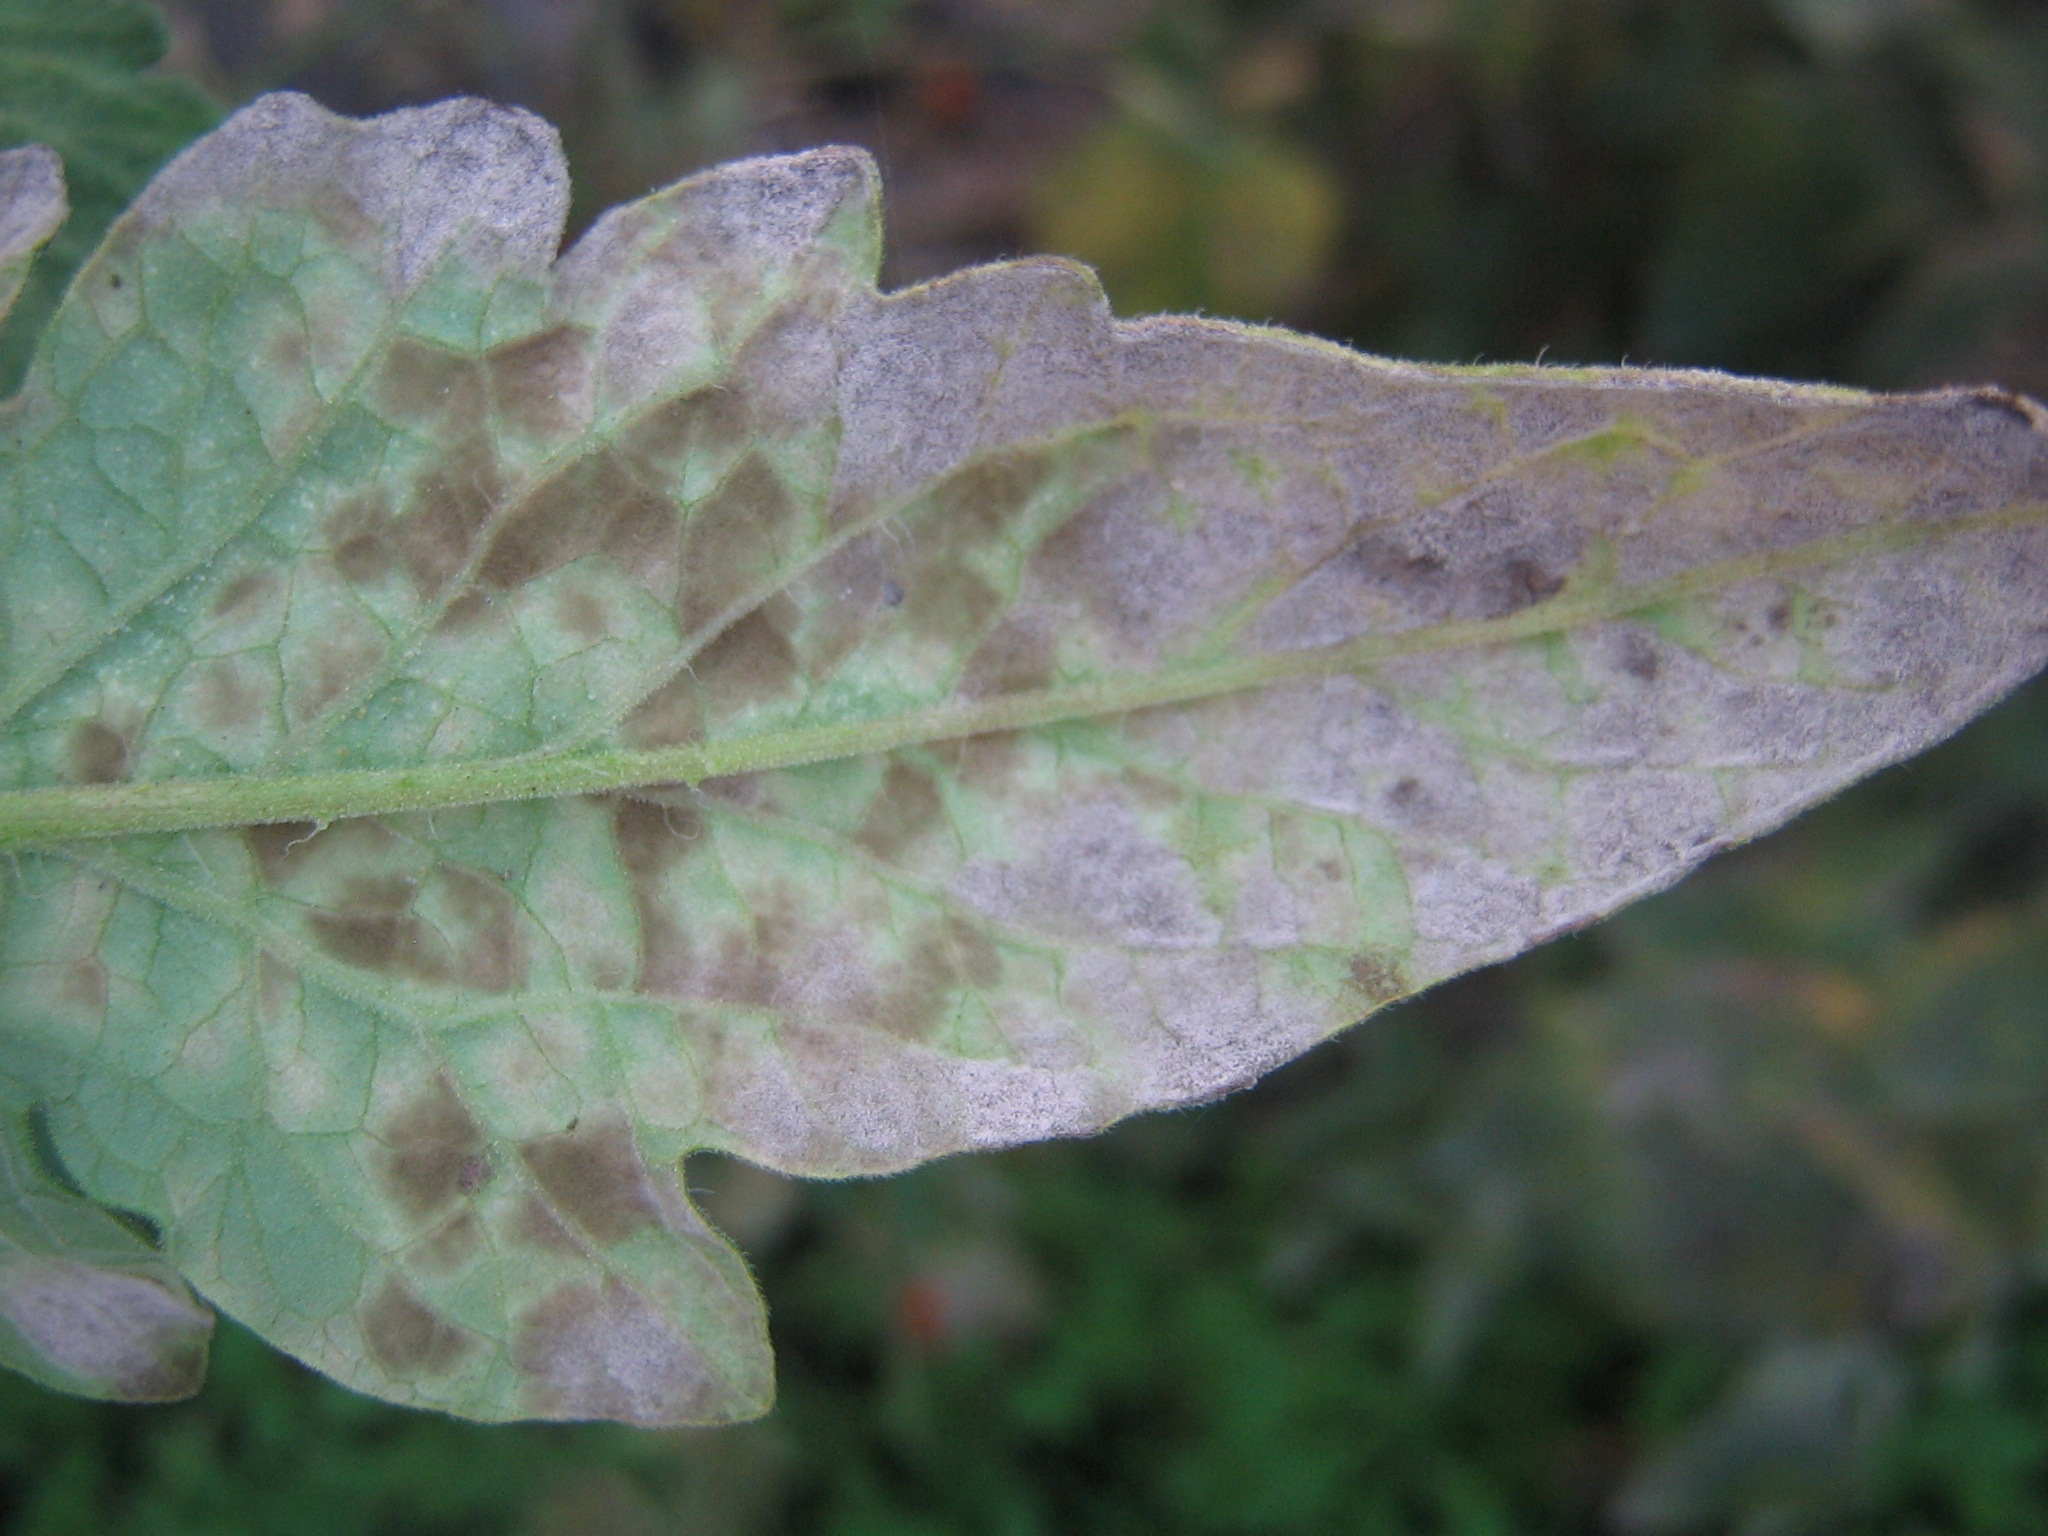negra: (403, 378, 751, 616), (368, 1094, 677, 1263), (302, 847, 552, 1004), (935, 507, 1082, 703)
